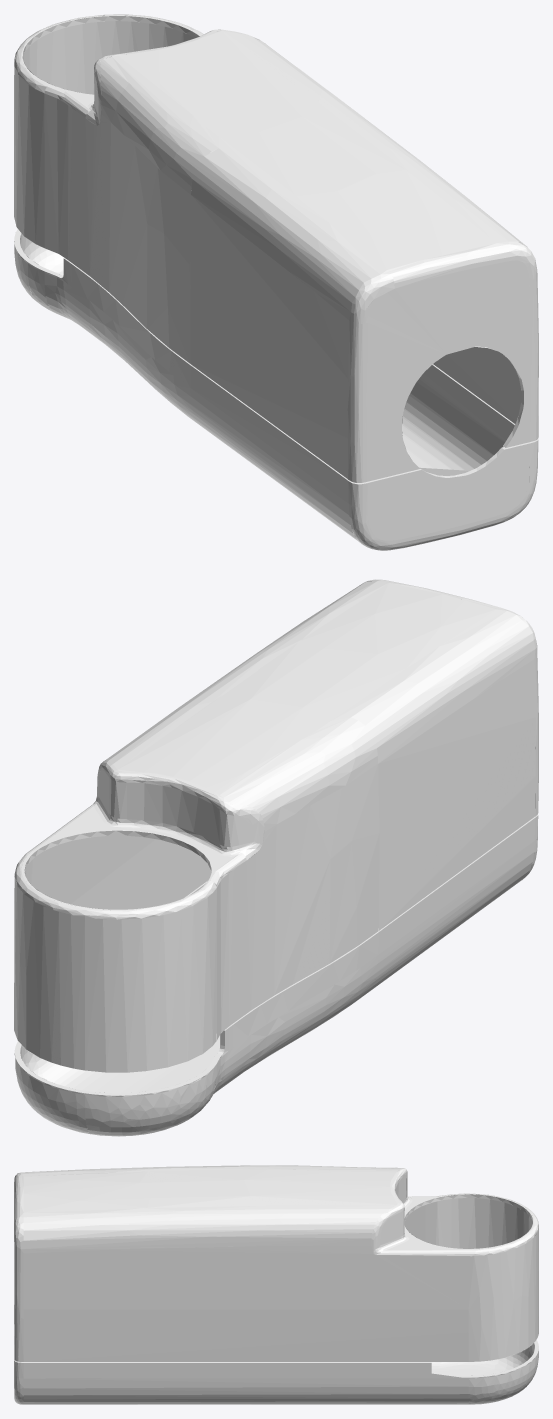
The model's file is arm_flex.obj.
3 views of the same model, one above another, from view 1: azimuth 30°, elevation 25°; view 2: azimuth 150°, elevation 25°; view 3: azimuth 270°, elevation 25° (orthographic). The views are drawn at different scales.
Visible parts, largest first — view 1: Arm_Flex_Arm_Flex; view 2: Arm_Flex_Arm_Flex; view 3: Arm_Flex_Arm_Flex.
Part boxes in pixels (box(x1,y1,x2,y2)): Arm_Flex_Arm_Flex: box(14, 14, 538, 550); Arm_Flex_Arm_Flex: box(14, 579, 538, 1136); Arm_Flex_Arm_Flex: box(14, 1165, 538, 1404).
Size of the model in its own units: 0.0768 by 0.1143 by 0.2726.
